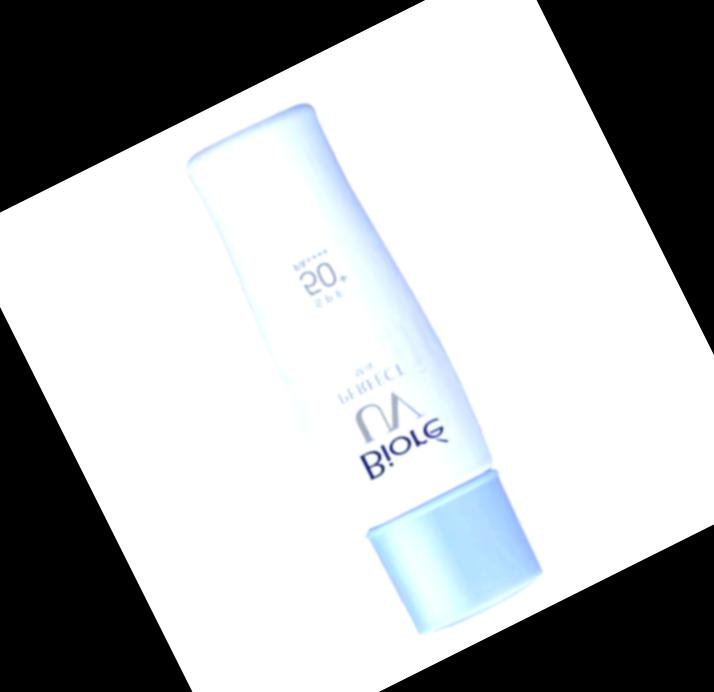cosmetic: (168, 89, 565, 647)
